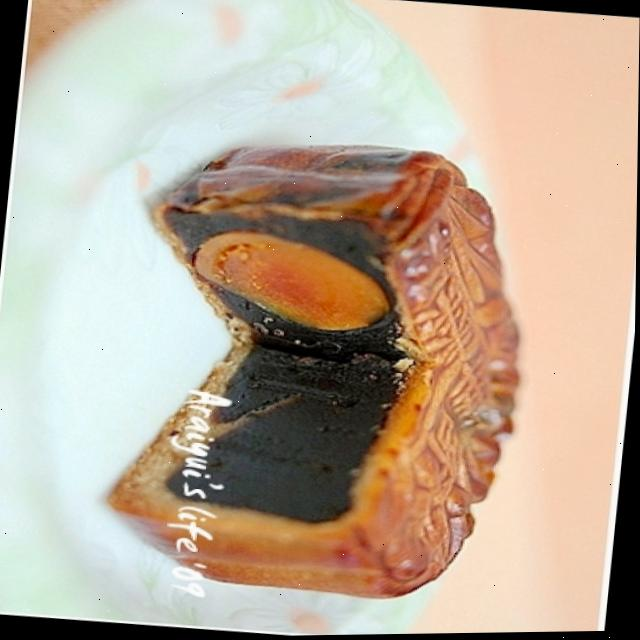蛋糕甜品: (91, 100, 564, 624)
